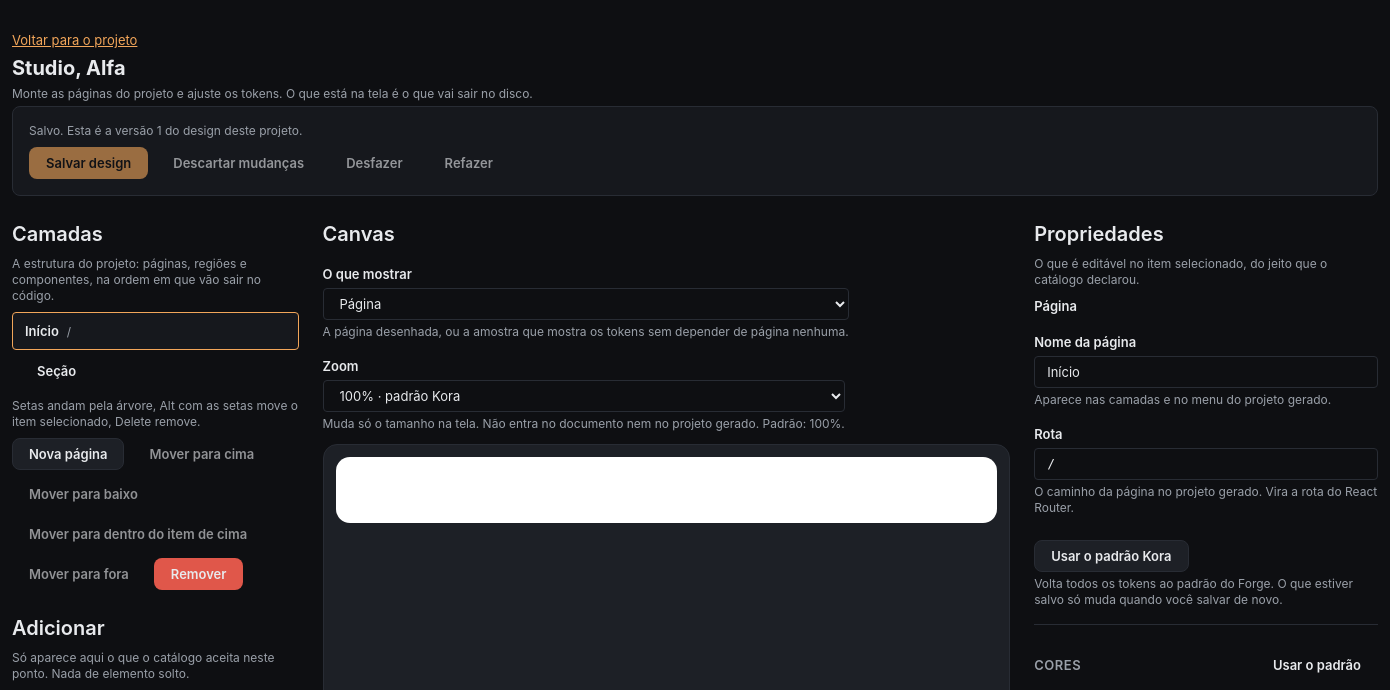
montar a estrutura › inserir um item o seleciona, e o item nasce com as props do catálogo já preenchidas
(page scrolled)
Click the list item "Seção" at (57, 371), box [37, 363, 76, 379]
(page scrolled)
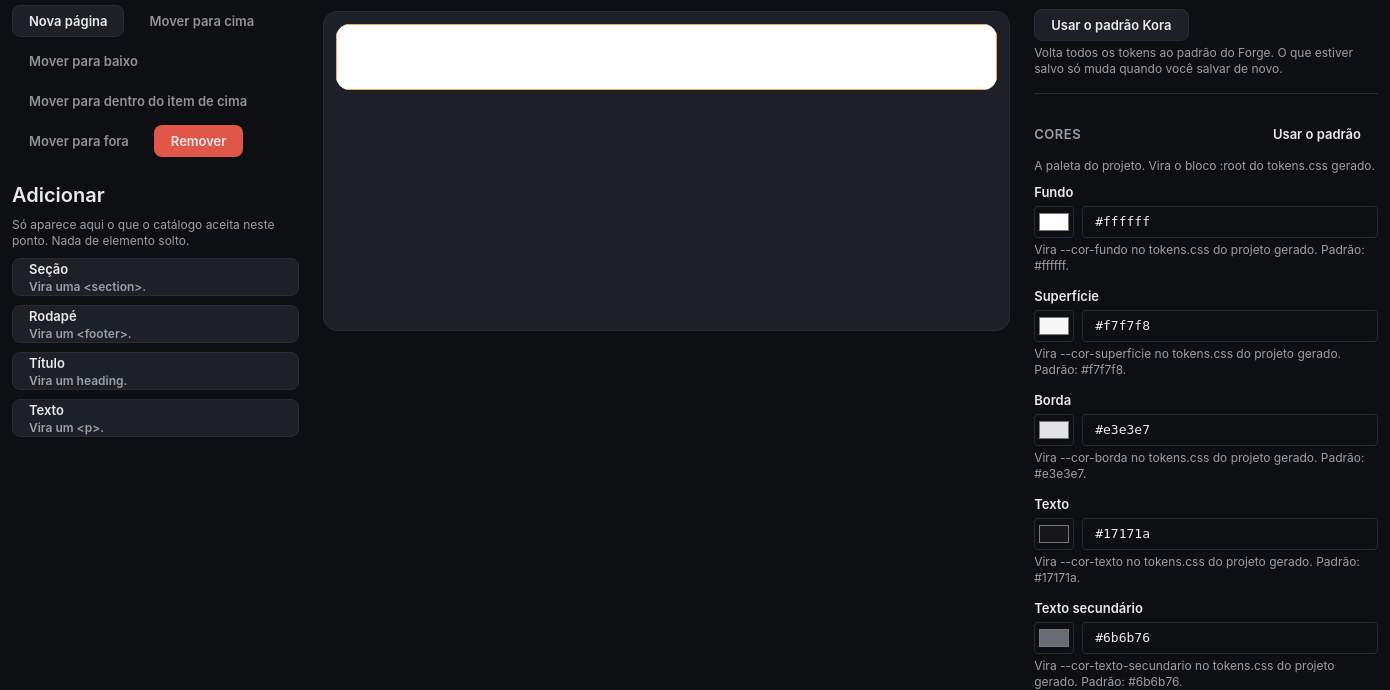
Click the button "Título Vira um heading." at (47, 363), box [12, 352, 298, 390]
(page scrolled)
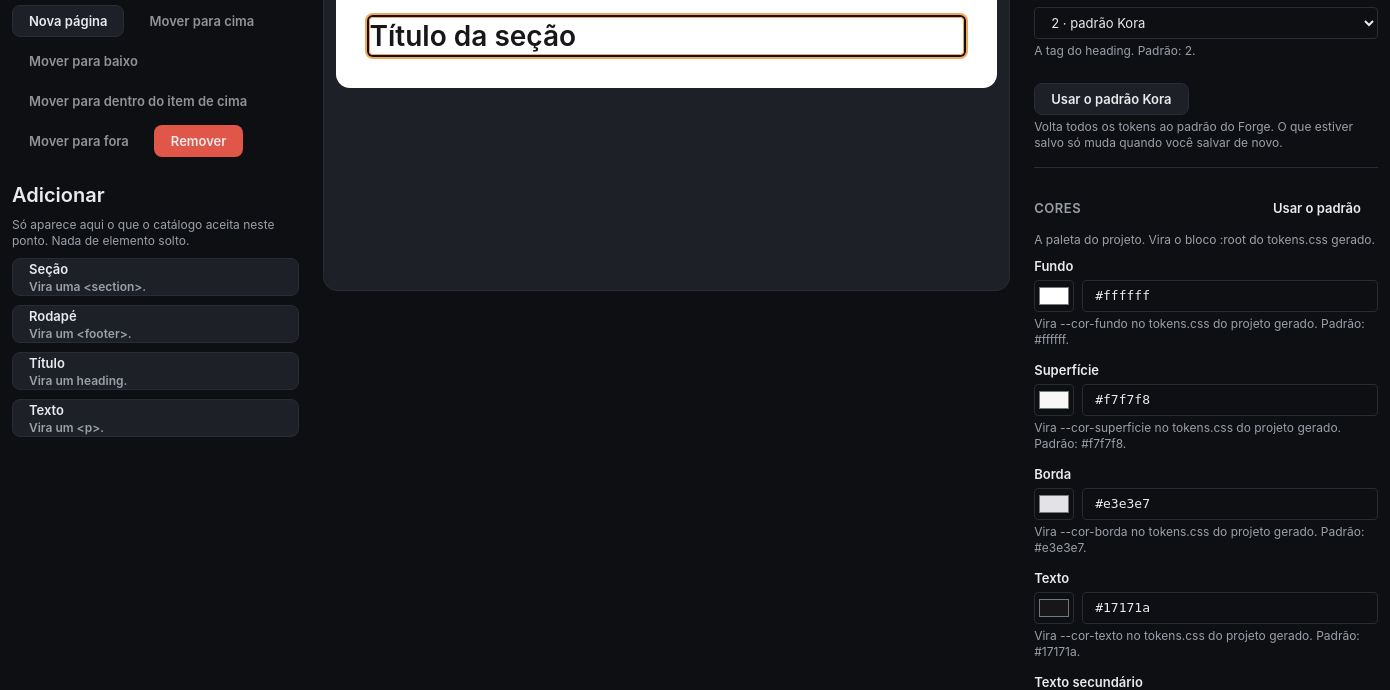
Now the dropdown labelled "Nível" shows "2 · padrão Kora", box [1034, 7, 1378, 39]
